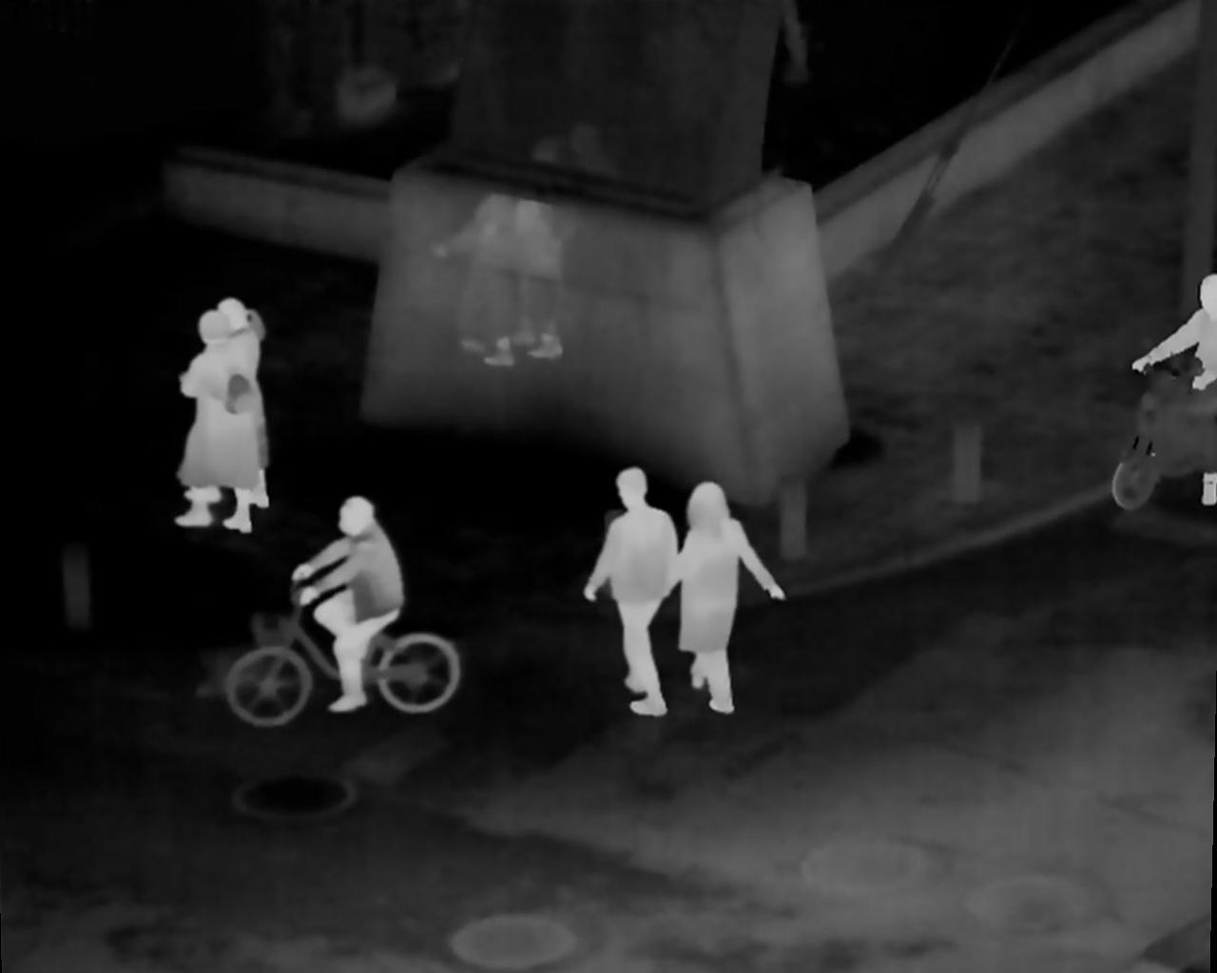person: (664, 482, 782, 715), (291, 491, 401, 711), (586, 467, 676, 720), (1138, 285, 1217, 503), (188, 317, 252, 535), (218, 292, 277, 506)
